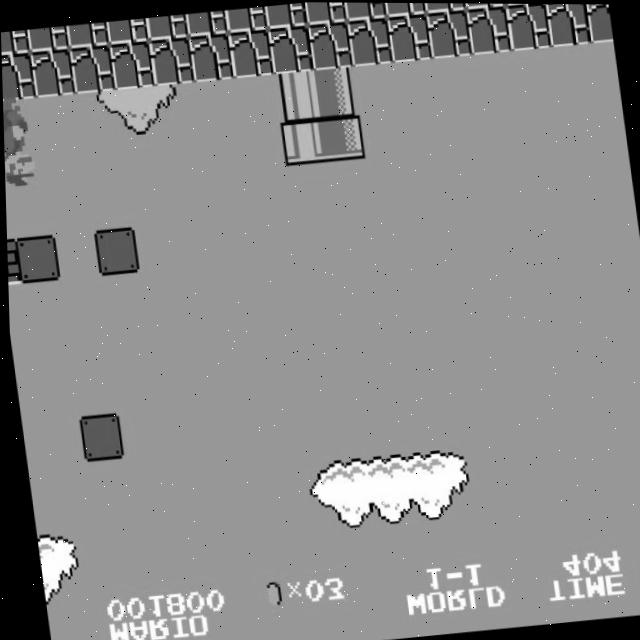0- big_mario: (2, 95, 39, 193)
1- brick_block: (6, 238, 18, 286)
14- pipe: (272, 70, 319, 120), (312, 66, 359, 116)
15- pipe_head: (278, 115, 325, 165), (318, 111, 365, 161)
17- undestructible_block: (107, 40, 155, 90), (68, 43, 115, 94), (28, 48, 75, 98), (147, 36, 194, 86), (187, 32, 234, 82), (227, 28, 274, 78), (267, 24, 314, 74), (306, 20, 353, 70), (346, 16, 393, 66), (385, 12, 432, 62), (425, 8, 472, 58), (465, 4, 512, 54), (504, 3, 551, 50), (544, 3, 591, 46), (1, 51, 35, 101), (65, 21, 109, 49), (224, 5, 268, 33), (145, 13, 188, 41), (105, 17, 149, 44), (184, 10, 228, 37), (264, 2, 308, 29), (26, 25, 69, 52), (585, 3, 613, 42), (303, 2, 347, 25), (343, 2, 386, 20), (1, 29, 29, 56), (383, 2, 426, 16), (423, 2, 466, 13), (462, 3, 505, 9)
3- empty_block: (12, 234, 59, 284), (91, 226, 138, 276), (76, 412, 122, 462)
